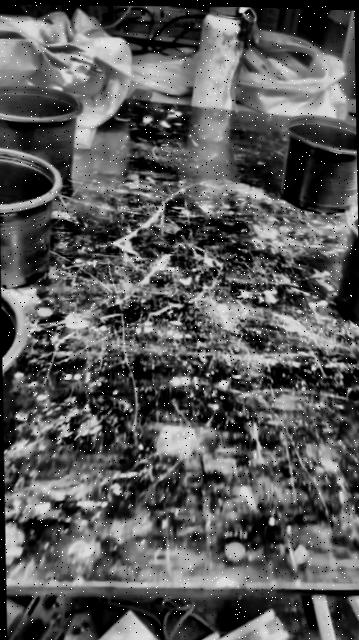pot: (0, 83, 83, 201), (0, 148, 60, 287), (280, 113, 357, 214), (0, 288, 26, 434), (336, 207, 359, 325)
